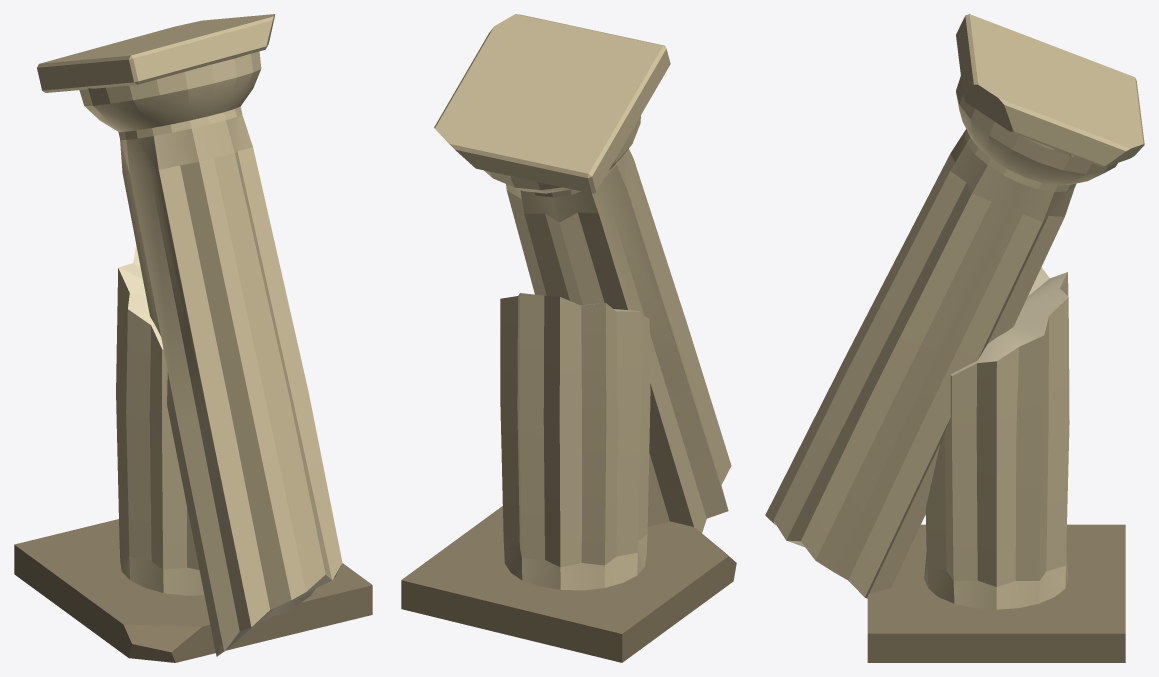
File: column-1.glb
The picture shows the model from 3 angles, left to right: view 1: azimuth 30°, elevation 25°; view 2: azimuth 150°, elevation 25°; view 3: azimuth 270°, elevation 25°; orthographic projection. The views are drawn at different scales.
Parts seen in each view (by area): view 1: column-1; view 2: column-1; view 3: column-1.
Boxes of the visible parts, x1=… form: column-1: x1=14, y1=14, x2=372, y2=662; column-1: x1=401, y1=14, x2=736, y2=662; column-1: x1=765, y1=14, x2=1144, y2=662.
Size of the model in its own units: 0.9535 by 2.27 by 1.4.
